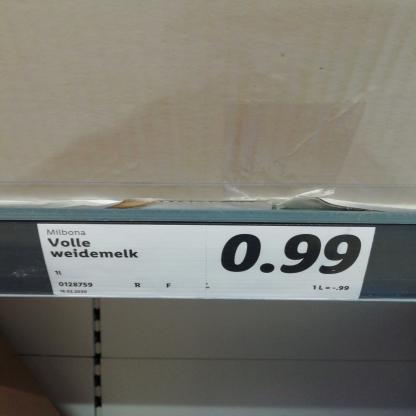prtg: (37, 226, 377, 301)
